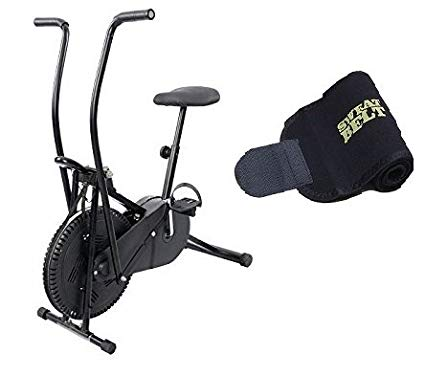gym_bike: (23, 6, 256, 360)
